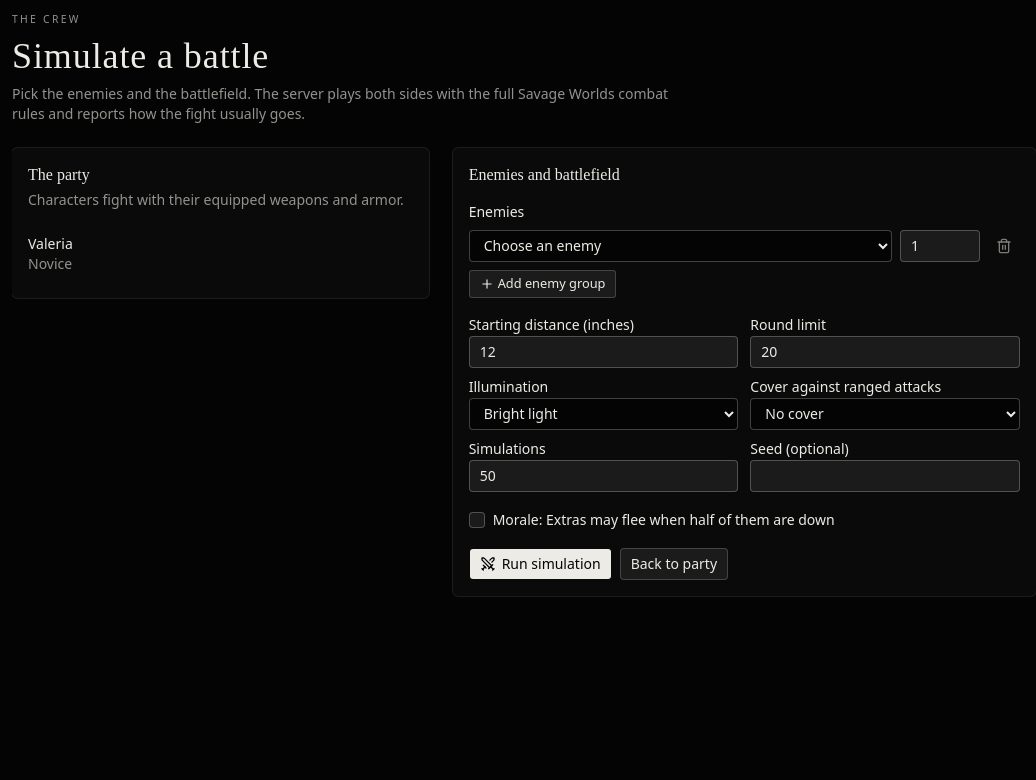
Test: NewBattleRoute › shows server errors
Select "Goblin · Parry 5 · Toughness 6 (1)" in the dropdown named "Enemy 1" at coordinates (680, 246), box [469, 230, 892, 262]
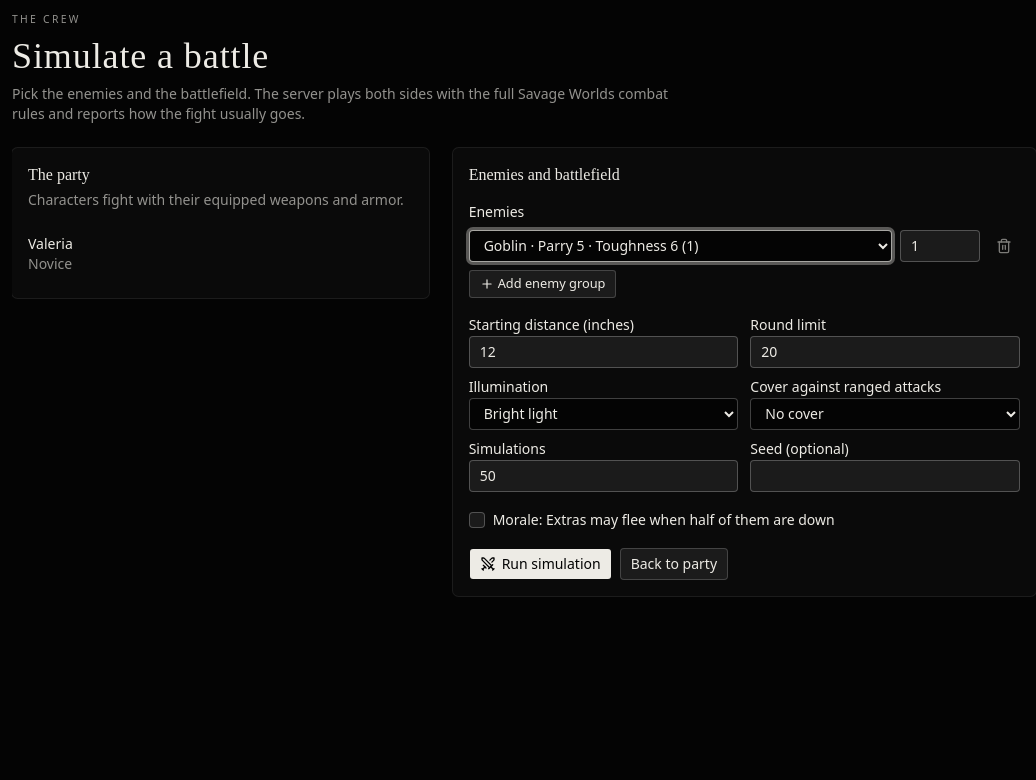
Click the button "Run simulation" at coordinates (540, 564), box [469, 548, 612, 580]
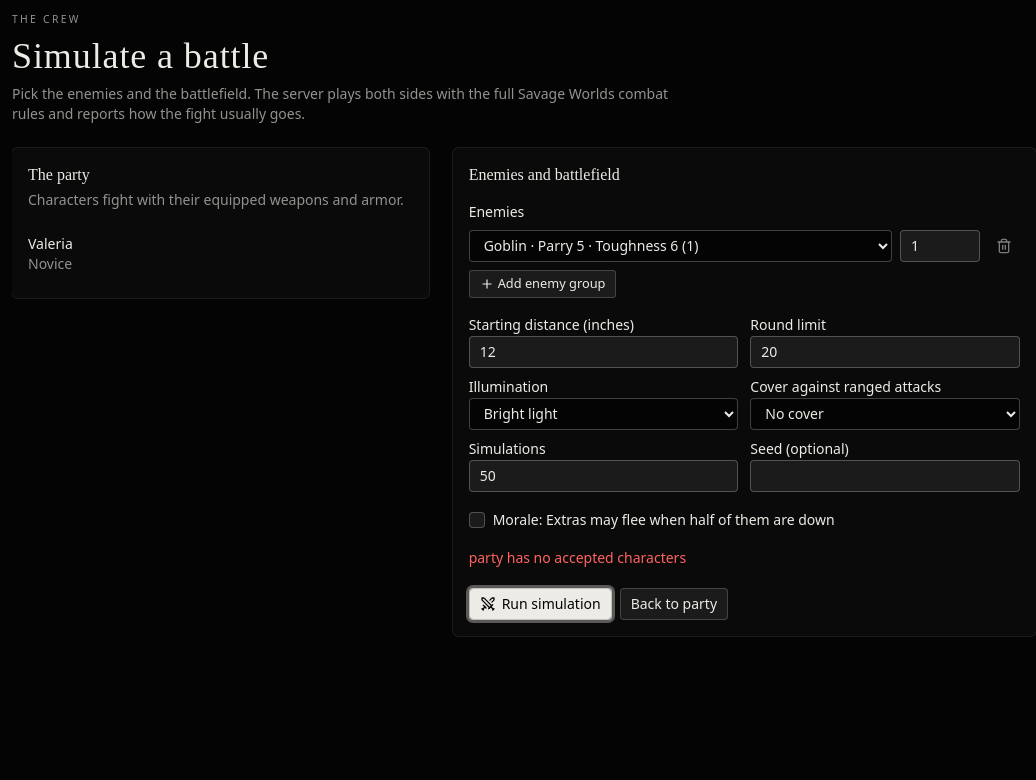
Expected: the message reads "party has no accepted characters", [469, 548, 686, 567]
